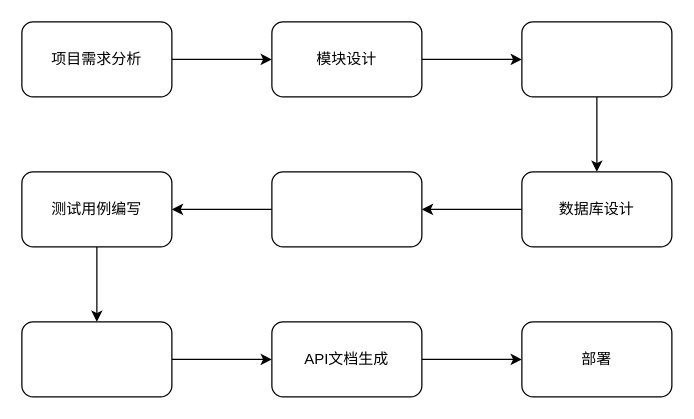
Some shapes in this 694 by 419 pixel diagram are drawn without their labels. The shapes that lost their labels are listed below. From the top down, each one's centre as x and y in pixels, then its label:
the point at 596,59: 技术选型
the point at 346,209: 开发规范制定
the point at 96,359: 业务逻辑代码编写
